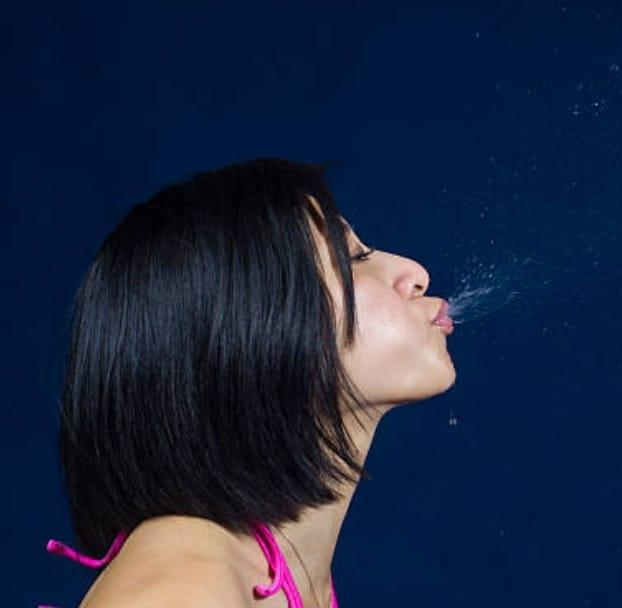Spitting: (65, 132, 598, 513)
